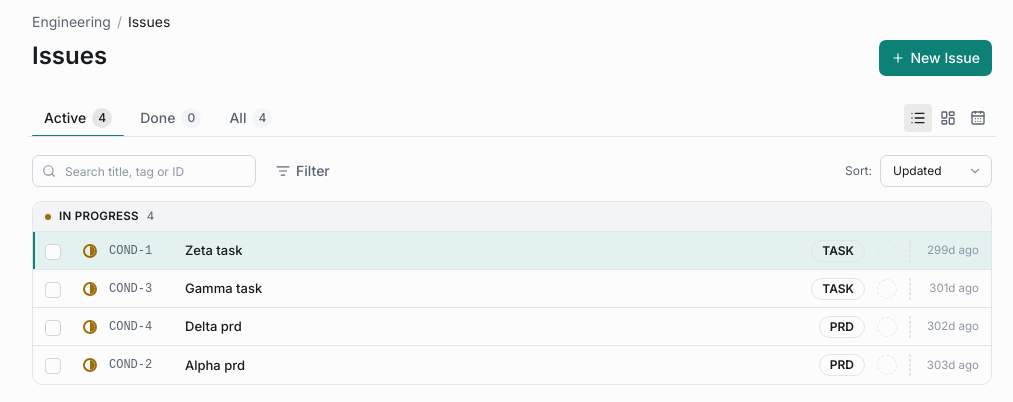
Test: lazy status moves › reads only the opened row, offering the moves for that row status
The width and height of the screenshot is (1013, 402).
Click the button named "Change status (currently In Progress)" next to "COND-1" at (90,251), box [83,244,97,258]
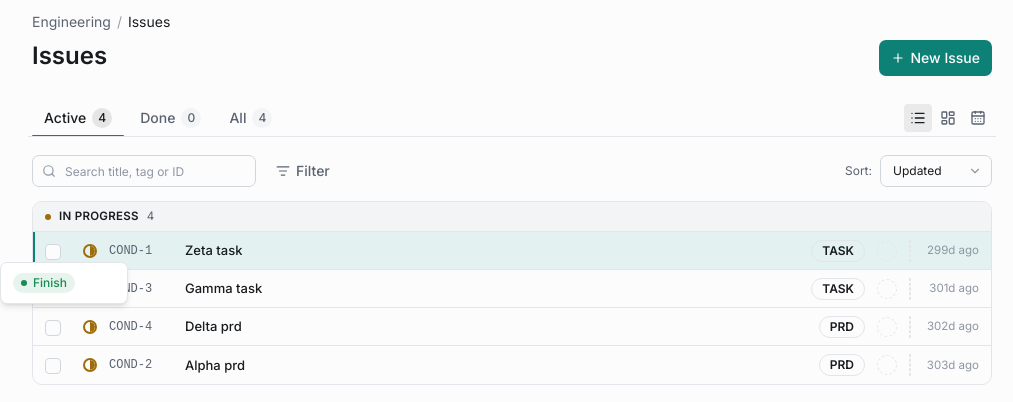
Expected: the text "Finish" is shown, [13,273,75,293]
